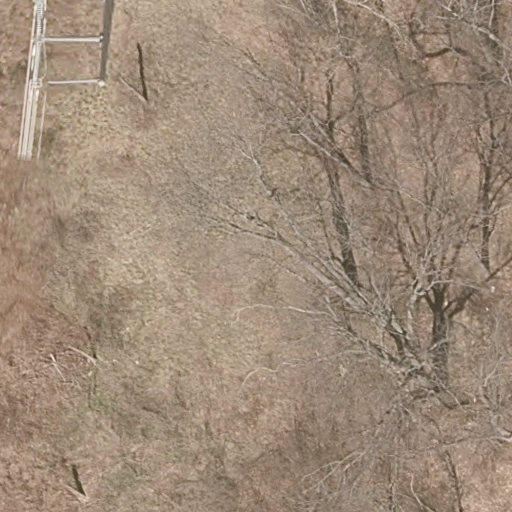TT: (17, 1, 102, 160)
